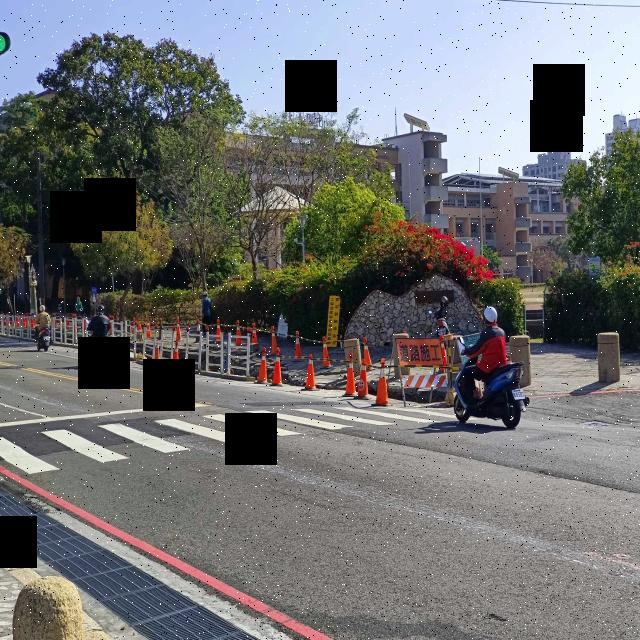zebra_crossing: (249, 182, 640, 548), (100, 165, 305, 496), (51, 156, 144, 473), (42, 160, 126, 468), (16, 161, 54, 494), (0, 215, 14, 640)
